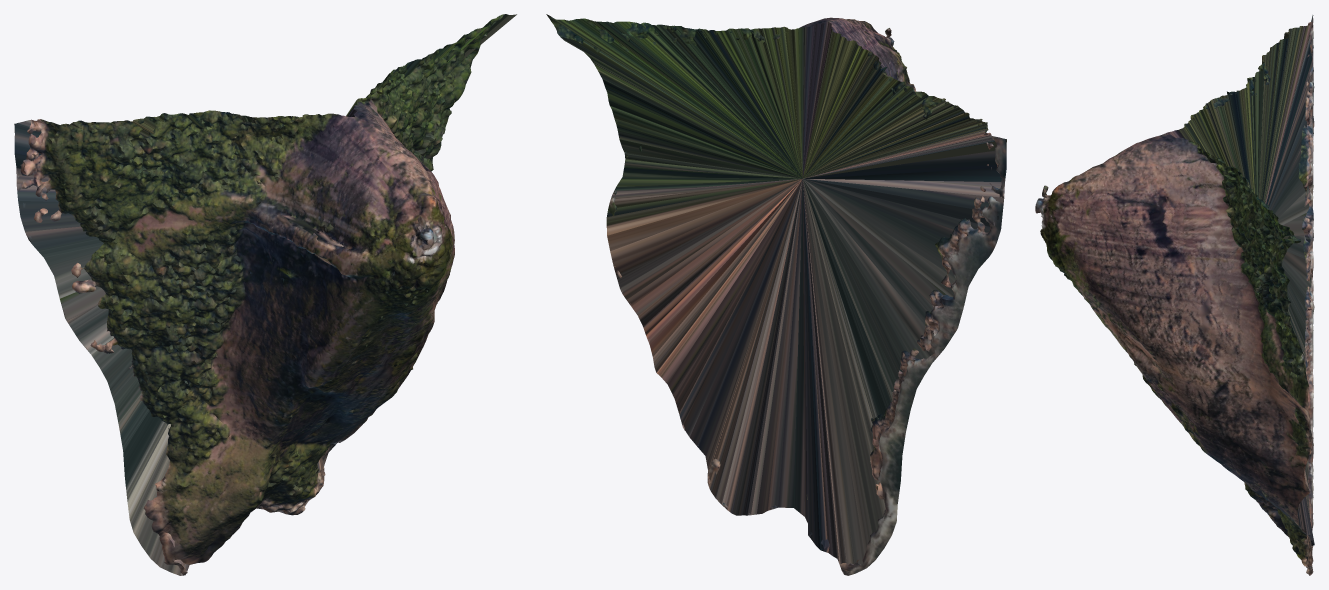
File: morro_clean_final.glb
3 views of the same model, side by side, from view 1: azimuth 30°, elevation 25°; view 2: azimuth 150°, elevation 25°; view 3: azimuth 270°, elevation 25° (orthographic). The views are drawn at different scales.
Parts seen in each view (by area): view 1: Urca_Isolada; view 2: Urca_Isolada; view 3: Urca_Isolada.
Boxes of the visible parts, box(x1,y1,x2,y2) form: Urca_Isolada: box(14, 14, 516, 575); Urca_Isolada: box(546, 14, 1006, 575); Urca_Isolada: box(1035, 15, 1314, 575).
Size of the model in its own units: 781 by 750 by 411.
1 material, 1 textured.
